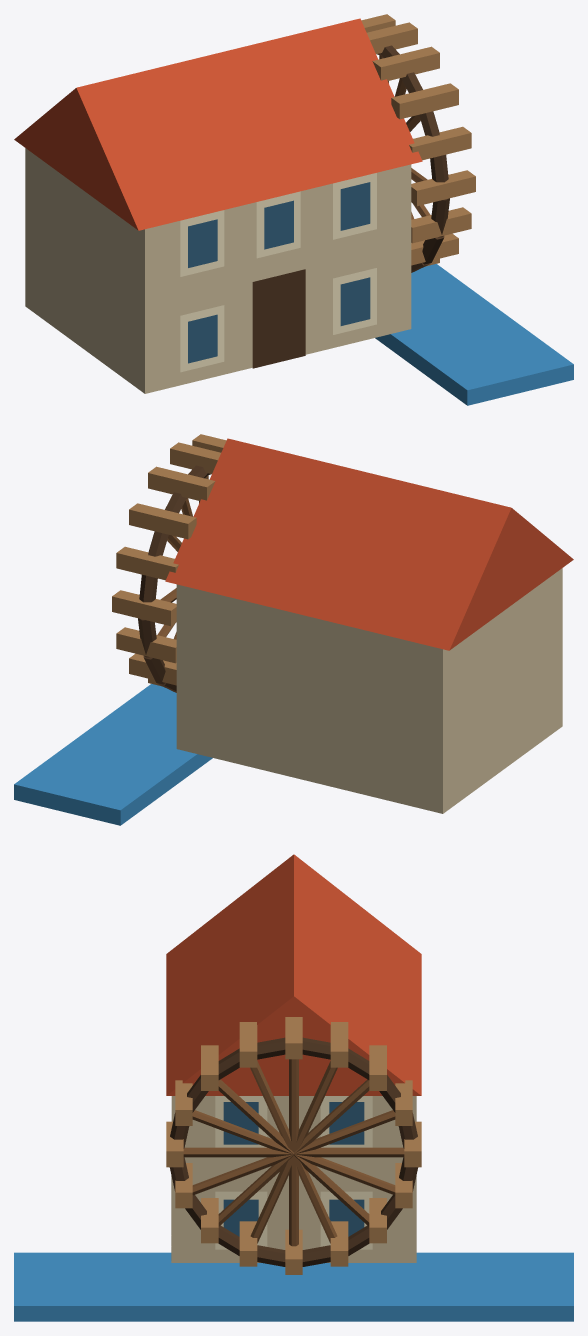
The model's file is building_water_mill.fbx.
3 views of the same model, one above another, from view 1: azimuth 30°, elevation 25°; view 2: azimuth 150°, elevation 25°; view 3: azimuth 270°, elevation 25° (orthographic). The views are drawn at different scales.
Parts seen in each view (by area): view 1: building_water_mill; view 2: building_water_mill; view 3: building_water_mill.
Boxes of the visible parts, x1,y1,x2,y2 form: building_water_mill: (14, 14, 573, 405); building_water_mill: (14, 434, 573, 825); building_water_mill: (14, 854, 573, 1321).
Size of the model in its own units: 61 by 45.25 by 80.
